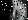person: (10, 1, 28, 20)
